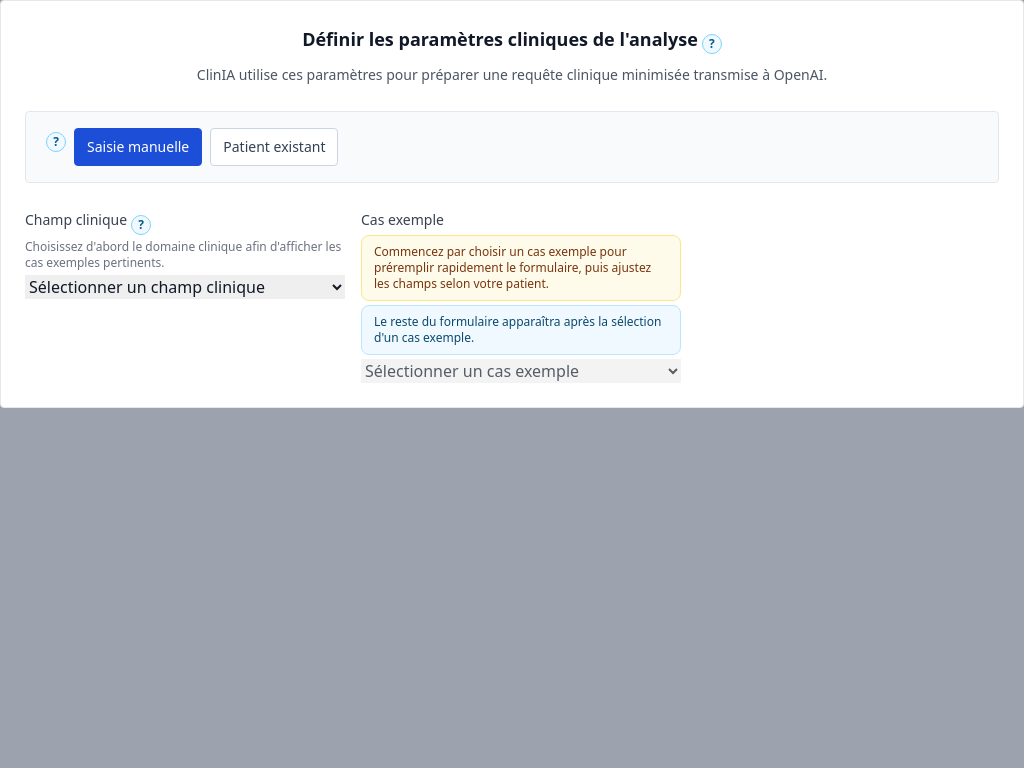
it: ClinicalForm › fills the form with the type 2 diabetes example case
Select "Endocrinologie" in the dropdown labelled "Champ clinique" at (185, 287), box [25,275,345,299]
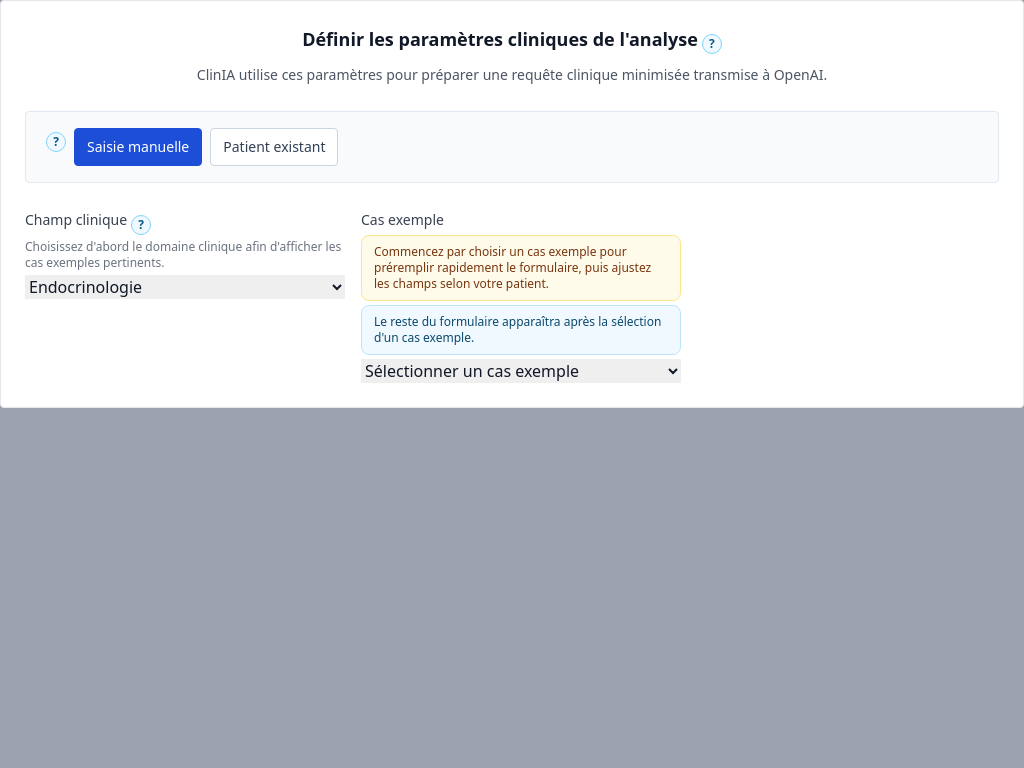
Select "Type 2 diabetes" in the dropdown labelled "Cas exemple" at (521, 371), box [361,359,681,383]
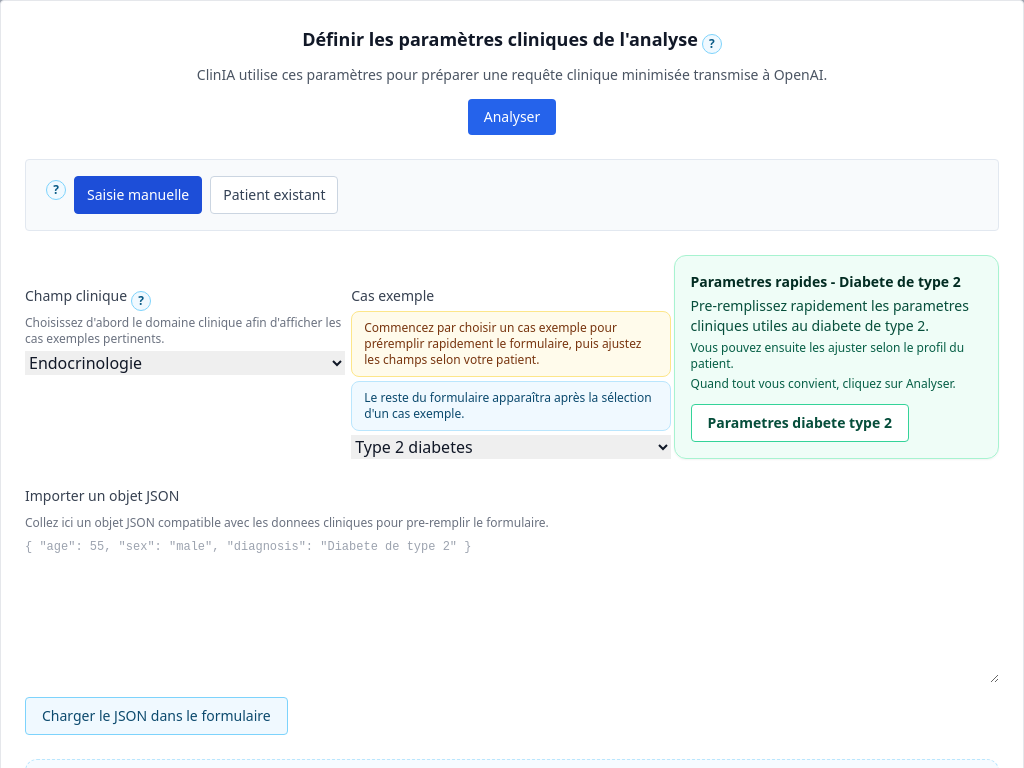
Expected: the text "Pre-remplissez rapidement les parametres cliniques utiles au diabete de type 2." is shown, [690,296,982,336]
Expected: the text "Vous pouvez ensuite les ajuster selon le profil du patient." is shown, [690,340,982,372]
Expected: the text "Quand tout vous convient, cliquez sur Analyser." is shown, [690,376,982,392]
